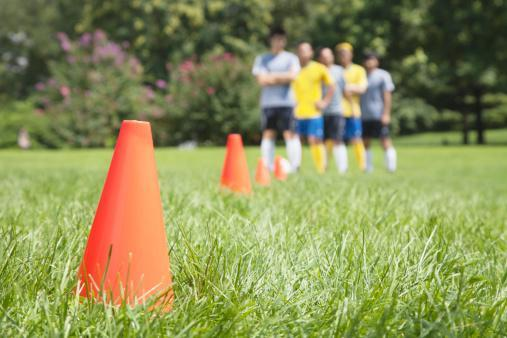Cone: (78, 117, 173, 313), (215, 131, 253, 193), (255, 157, 273, 188), (274, 156, 287, 182)
